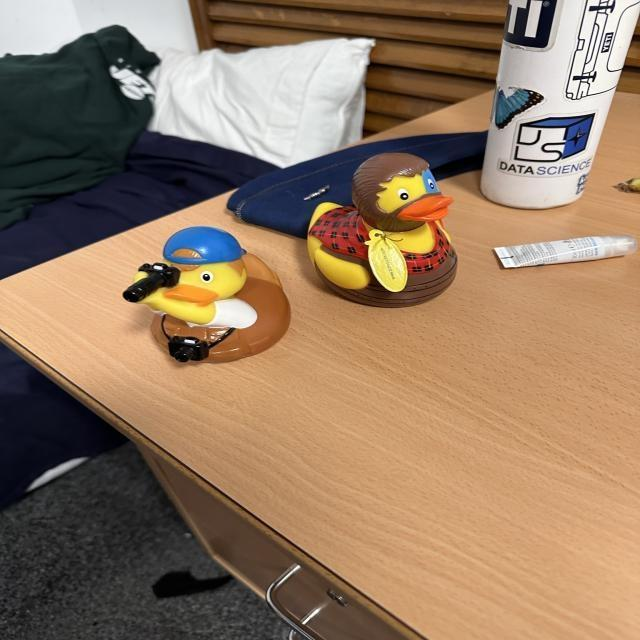rubber-duck: (307, 152, 455, 305), (122, 225, 288, 360)
